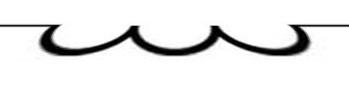inductor: (24, 8, 320, 79)
